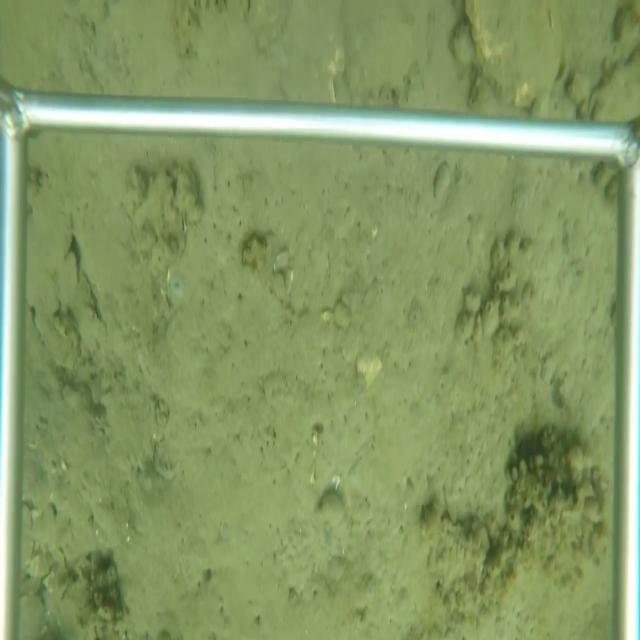Oyster-Indeterminate: (122, 155, 207, 289), (60, 257, 108, 351)
